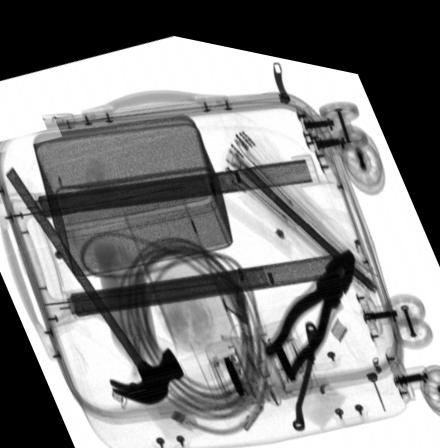Hammer: (2, 163, 185, 400)
Pliers: (264, 230, 356, 371)
Wrench: (293, 308, 321, 420)
